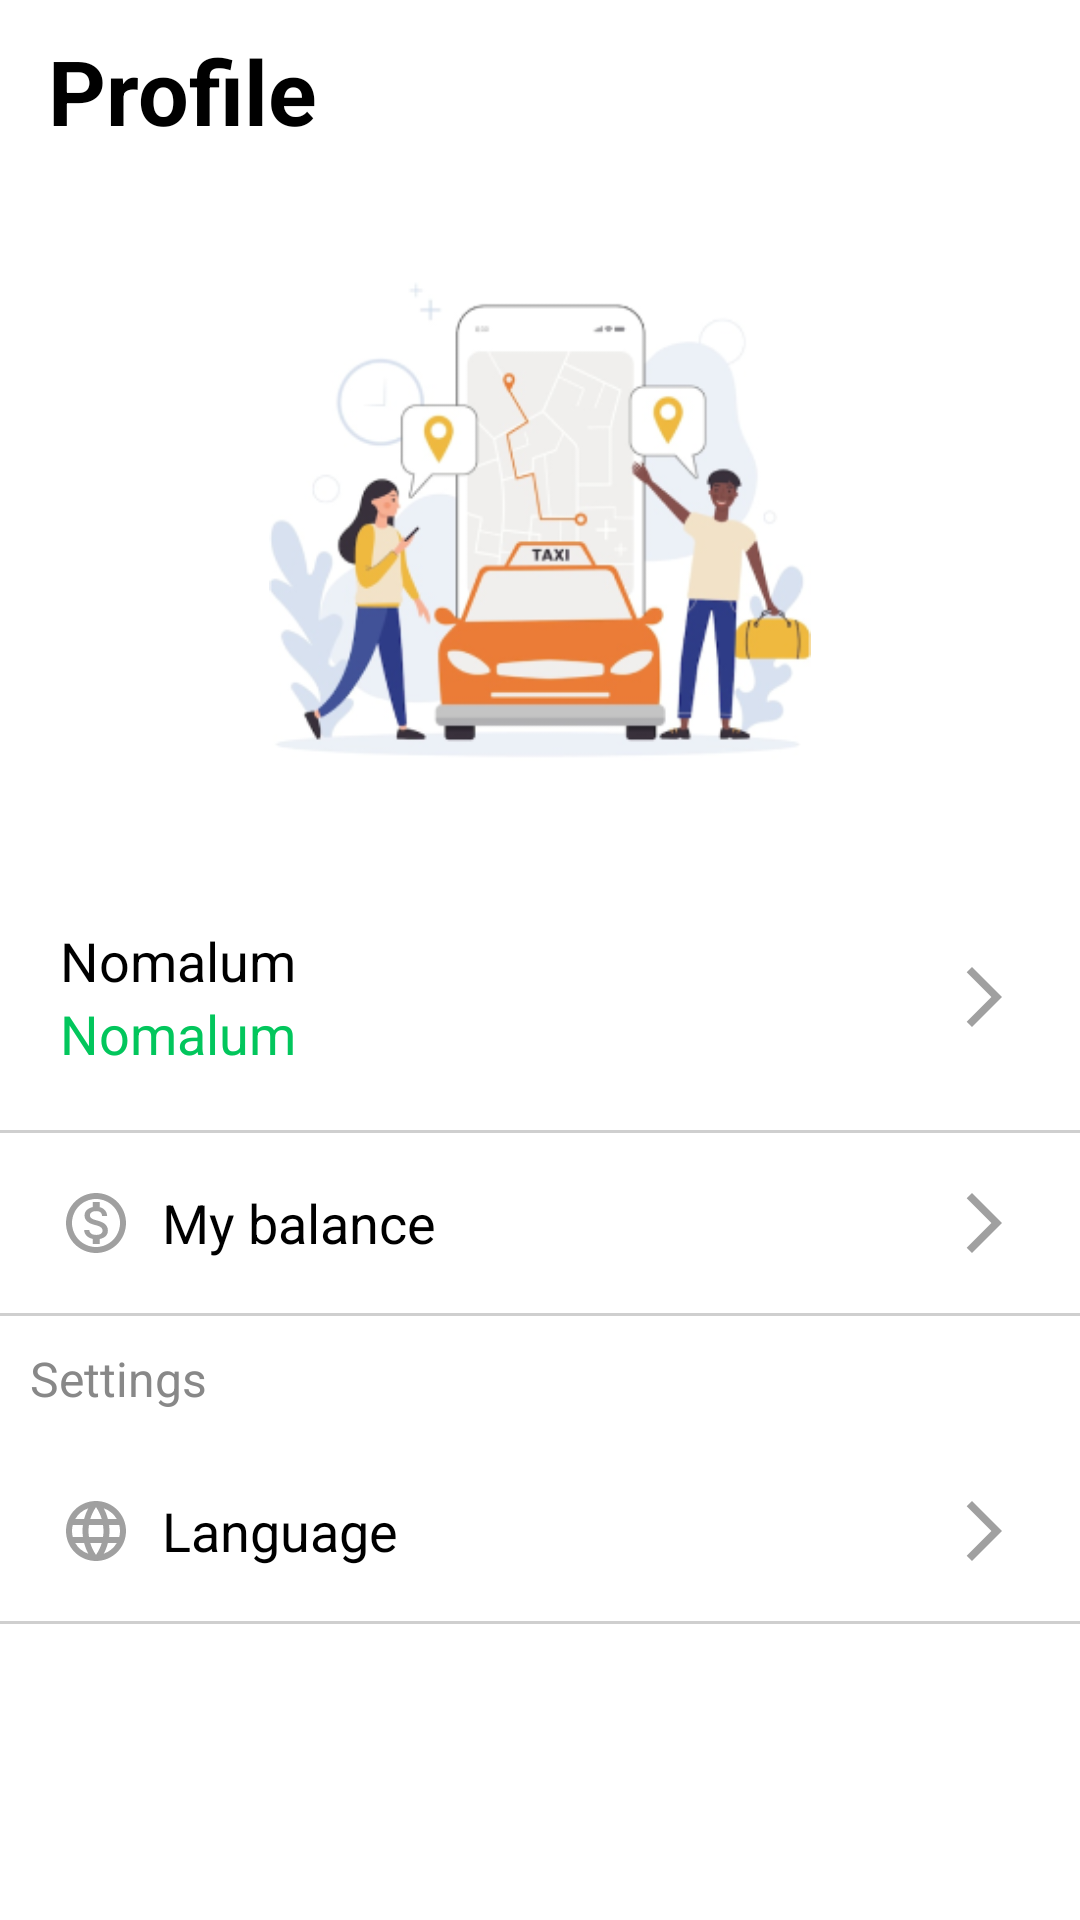

Where to tap for icons on this 1080w x 1920h app screen, as (x=x, y=y):
arrow forward: (x=984, y=997), (x=984, y=1223), (x=984, y=1531)
monetization on: (x=96, y=1223)
